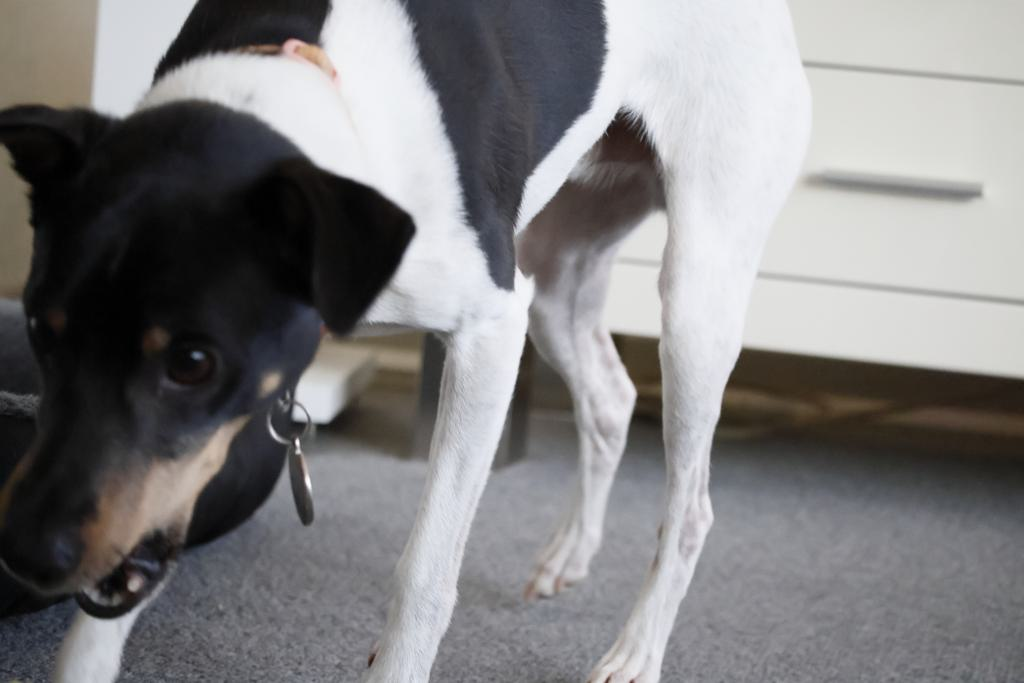Dog: (0, 0, 827, 683)
